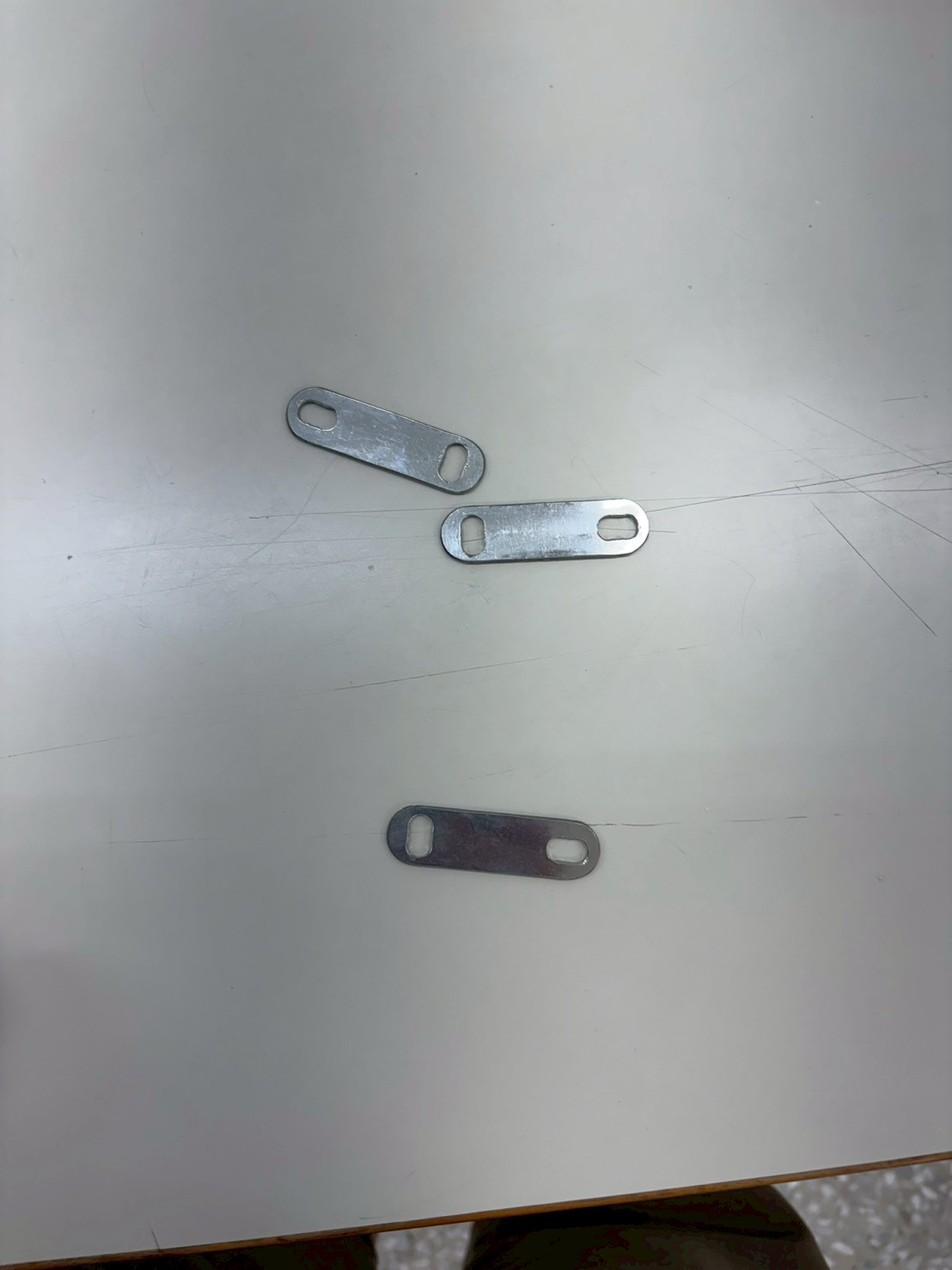Fe: (276, 372, 478, 502), (378, 800, 604, 883), (427, 494, 657, 564)
